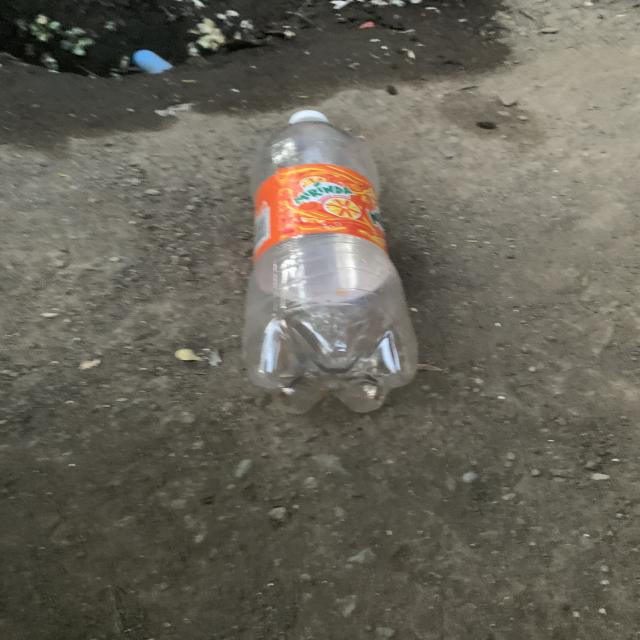Bottle: (243, 110, 418, 414)
